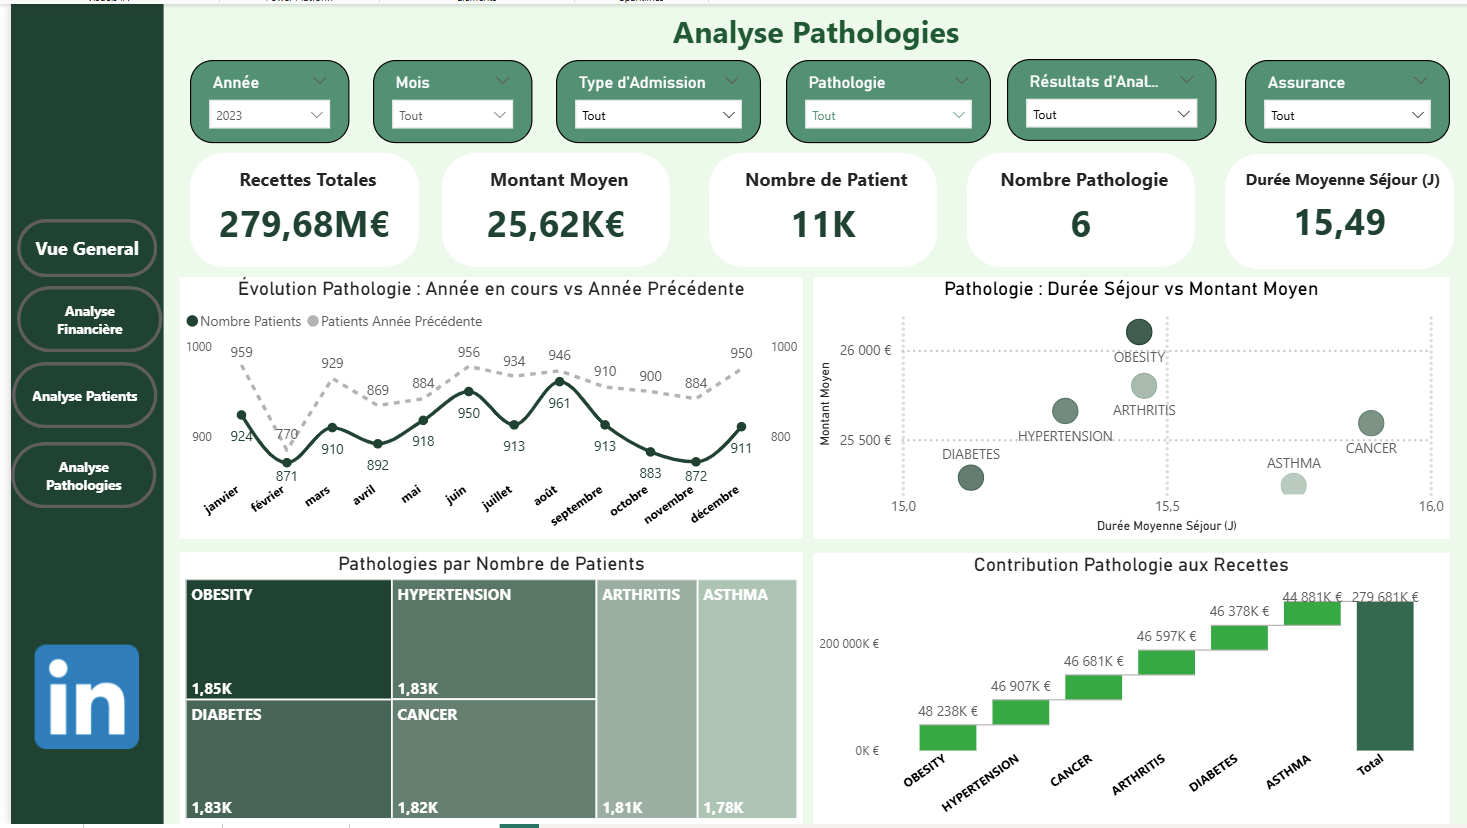

Layout of this report page (visuals, bound fields, positions):
{"tool":"powerbi","page":{"name":"Analyse Pathologies","canvas":[1280,720],"ordinal":3},"visuals":[{"type":"shape","box":[0,0,134.2,720],"z":0},{"type":"shape","box":[134.2,0,1145.8,60.3],"z":1000},{"type":"textbox","box":[133.2,0,1146.8,59.9],"z":3000},{"type":"slicer","fields":{"Values":["Calendrier.Mois"]},"box":[317.9,49.1,139.7,72.5],"z":4000},{"type":"slicer","fields":{"Values":["healthcare_dataset.Pathologie"]},"box":[680.5,49.1,180.3,72.5],"z":5000},{"type":"slicer","fields":{"Values":["healthcare_dataset.Type d'Admission"]},"box":[478.9,49.1,180.3,72.5],"z":6000},{"type":"slicer","fields":{"Values":["healthcare_dataset.Assurance"]},"box":[1083.7,49.1,180.3,72.5],"z":7000},{"type":"card","title":"Nombre Pathologie","fields":{"Values":["healthcare_dataset.Nombre Pathologie"]},"box":[839.3,131.2,199.9,100.4],"z":8000},{"type":"card","title":"Nombre de Patient","fields":{"Values":["healthcare_dataset.Nombre Patients"]},"box":[613,131.2,199.9,100.4],"z":9000},{"type":"treemap","title":"Pathologies par Nombre de Patients","fields":{"Values":["healthcare_dataset.Nombre Patients"],"Group":["healthcare_dataset.Pathologie"]},"box":[148,480.9,546.9,239.6],"z":10000},{"type":"lineChart","title":"Évolution Pathologie : Année en cours vs Année Précédente","fields":{"Category":["Calendrier.Mois"],"Y":["healthcare_dataset.Nombre Patients"],"Y2":["healthcare_dataset.Patients Année Précédente"]},"box":[148,239.6,546.9,229.9],"z":11000},{"type":"slicer","fields":{"Values":["Calendrier.Année"]},"box":[156.8,49.1,139.7,72.5],"z":12000},{"type":"scatterChart","title":"Pathologie : Durée Séjour vs Montant Moyen","fields":{"X":["healthcare_dataset.Durée Moyenne Séjour (J)"],"Y":["healthcare_dataset.Montant Moyen"],"Series":["healthcare_dataset.Pathologie"],"Size":["healthcare_dataset.Nombre Patients"]},"box":[704.6,239.6,559.3,229.9],"z":13000},{"type":"card","title":"Durée Moyenne Séjour (J)","fields":{"Values":["healthcare_dataset.Durée Moyenne Séjour"]},"box":[1066.1,131.4,201.1,101.1],"z":15000},{"type":"card","title":"Recettes Totales","fields":{"Values":["Sum(healthcare_dataset.Montant Facturé)"]},"box":[156.8,131.2,200.8,100.4],"z":16000},{"type":"card","title":"Montant Moyen","fields":{"Values":["healthcare_dataset.Montant Moyen"]},"box":[378.7,131.2,199.9,100.4],"z":17000},{"type":"slicer","fields":{"Values":["healthcare_dataset.Résultats d'Analyse"]},"box":[874.7,48.6,183.7,72.3],"z":18000},{"type":"waterfallChart","title":"Contribution Pathologie aux Recettes","fields":{"Category":["healthcare_dataset.Pathologie"],"Y":["healthcare_dataset.Montant Total"]},"box":[704.6,481.8,559.3,238.7],"z":18001},{"type":"actionButton","title":"Vue General","box":[5.3,188.5,123.3,51.1],"z":18002},{"type":"actionButton","title":"Vue General","box":[5.3,247.5,127.7,58.1],"z":18003},{"type":"actionButton","title":"Vue General","box":[0.9,314.4,127.7,58.1],"z":18004},{"type":"actionButton","title":"Vue General","box":[0,384.9,127.7,58.1],"z":18005},{"type":"actionButton","box":[16.9,558.5,99.8,100.7],"z":18006}]}

Visuals, with their boxes on the page's 1280x720 design canvas (x1, y1, x2, y2). These are canvas units, not pixel positions in the 1467x828 screenshot, which may show the page scaled, cropped or inside an application window:
shape: bbox=(0, 0, 134, 720)
shape: bbox=(134, 0, 1280, 60)
textbox: bbox=(133, 0, 1280, 60)
slicer - Calendrier.Mois: bbox=(318, 49, 458, 122)
slicer - healthcare_dataset.Pathologie: bbox=(680, 49, 861, 122)
slicer - healthcare_dataset.Type d'Admission: bbox=(479, 49, 659, 122)
slicer - healthcare_dataset.Assurance: bbox=(1084, 49, 1264, 122)
"Nombre Pathologie" card: bbox=(839, 131, 1039, 232)
"Nombre de Patient" card: bbox=(613, 131, 813, 232)
"Pathologies par Nombre de Patients" treemap: bbox=(148, 481, 695, 720)
"Évolution Pathologie : Année en cours vs Année Précédente" lineChart: bbox=(148, 240, 695, 470)
slicer - Calendrier.Année: bbox=(157, 49, 296, 122)
"Pathologie : Durée Séjour vs Montant Moyen" scatterChart: bbox=(705, 240, 1264, 470)
"Durée Moyenne Séjour (J)" card: bbox=(1066, 131, 1267, 232)
"Recettes Totales" card: bbox=(157, 131, 358, 232)
"Montant Moyen" card: bbox=(379, 131, 579, 232)
slicer - healthcare_dataset.Résultats d'Analyse: bbox=(875, 49, 1058, 121)
"Contribution Pathologie aux Recettes" waterfallChart: bbox=(705, 482, 1264, 720)
"Vue General" actionButton: bbox=(5, 188, 129, 240)
"Vue General" actionButton: bbox=(5, 248, 133, 306)
"Vue General" actionButton: bbox=(1, 314, 129, 372)
"Vue General" actionButton: bbox=(0, 385, 128, 443)
actionButton: bbox=(17, 558, 117, 659)
